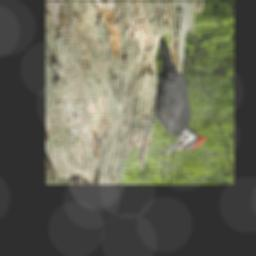Woodpecker: (138, 34, 208, 154)
